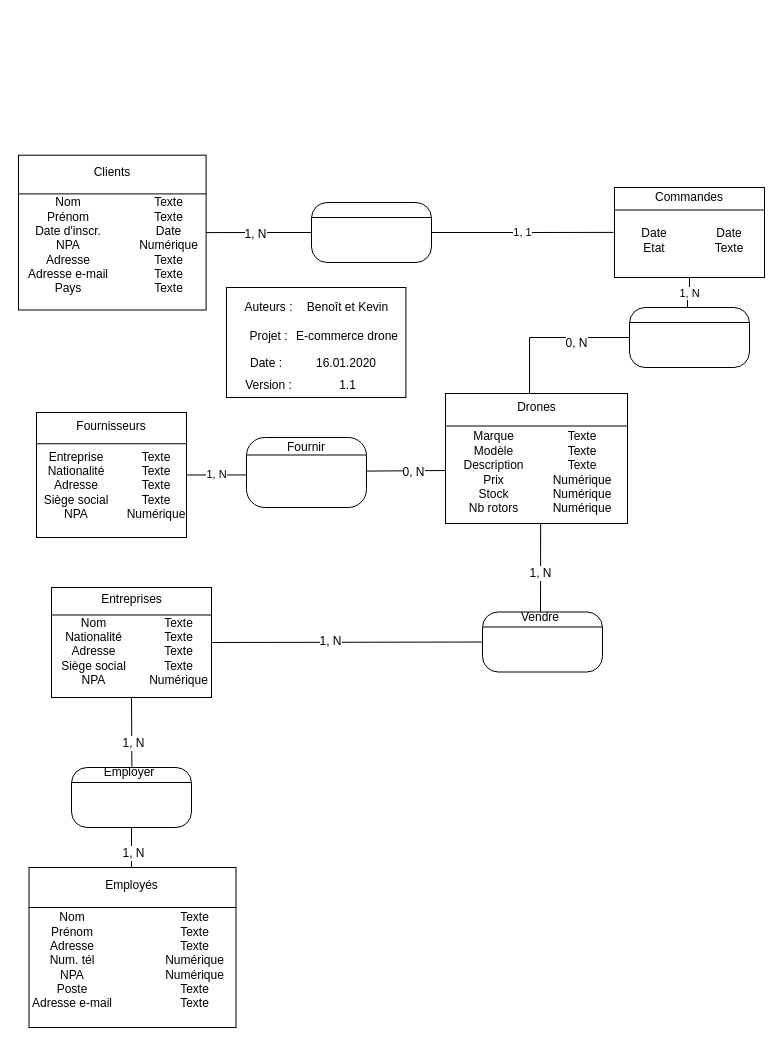
The diagram is 783 pixels wide and 1045 high, and some of its shapes have lost their labels. The centre of each missing label's shape, as x and y in pixels:
"Contenir" goes at [689,337].
"Passer" goes at [371,232].
